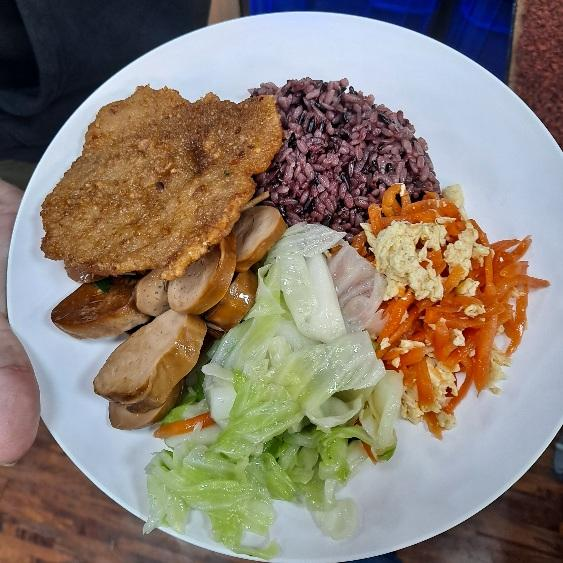big fried chicken leg: (5, 17, 563, 563)
braised fish: (245, 74, 443, 224)
braised fish fillet: (147, 226, 390, 535), (47, 203, 282, 434), (361, 183, 540, 432)
braised pork: (33, 74, 284, 284)
